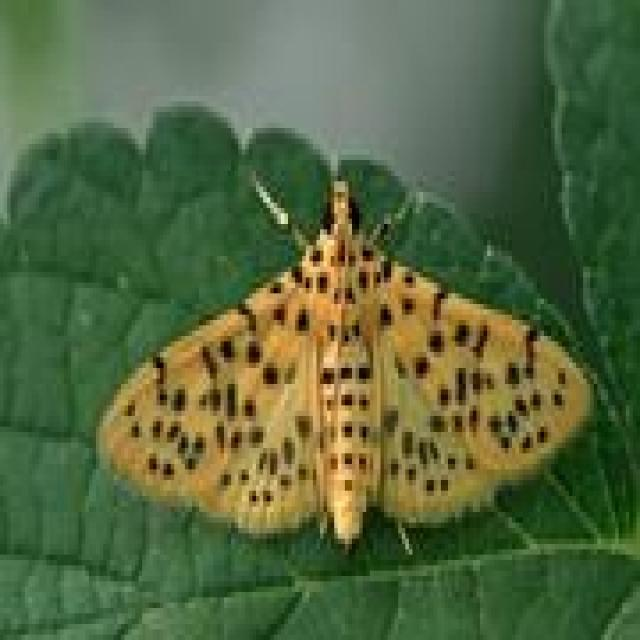peach borer: (94, 167, 599, 551)
